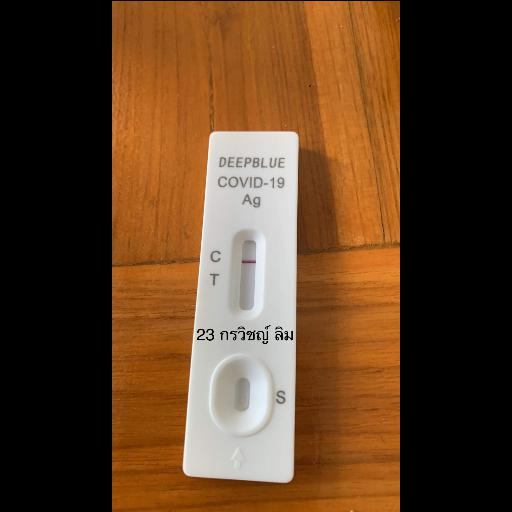Neg: (182, 129, 299, 482)
